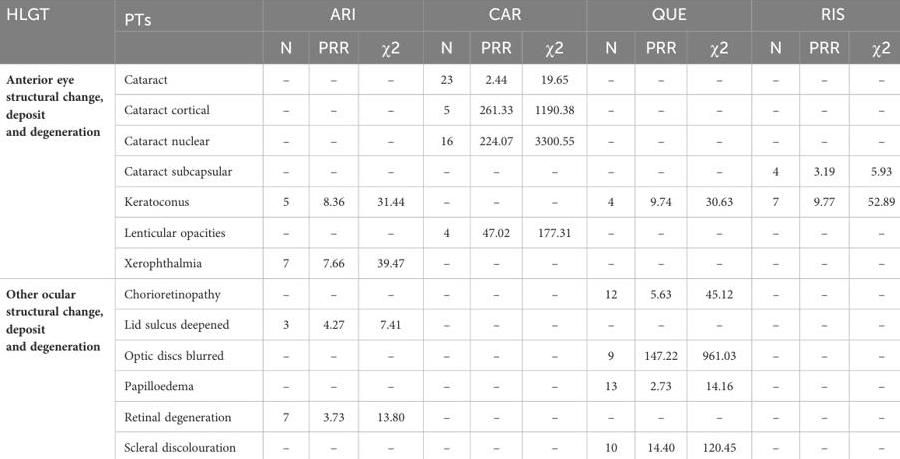table: (5, 4, 894, 454)
table column: (113, 4, 257, 454), (5, 4, 113, 454), (523, 4, 589, 454), (689, 4, 752, 454), (629, 4, 689, 454), (362, 4, 421, 454), (794, 4, 853, 454), (304, 4, 362, 454), (465, 4, 523, 454), (257, 4, 304, 454), (421, 4, 465, 454), (752, 4, 794, 454), (853, 4, 894, 454), (589, 4, 629, 454)
table column header: (5, 4, 894, 64)
table row: (5, 29, 894, 64), (5, 124, 894, 155), (5, 155, 894, 186), (5, 216, 894, 247), (5, 247, 894, 278), (5, 308, 894, 339), (5, 339, 894, 370), (5, 400, 894, 431), (5, 64, 894, 94), (5, 94, 894, 124), (5, 186, 894, 216), (5, 278, 894, 308), (5, 370, 894, 400), (5, 4, 894, 29), (5, 431, 894, 454)
table spanning cell: (5, 64, 113, 278), (5, 278, 113, 454), (113, 4, 257, 64), (5, 4, 113, 64), (421, 4, 589, 29), (257, 4, 421, 29), (589, 4, 752, 29), (752, 4, 894, 29)
